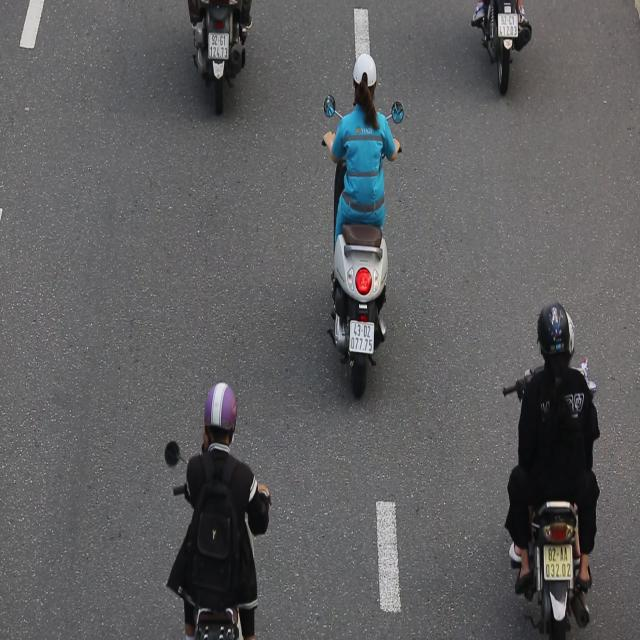motorbike: (500, 290, 602, 640), (317, 46, 413, 406)
